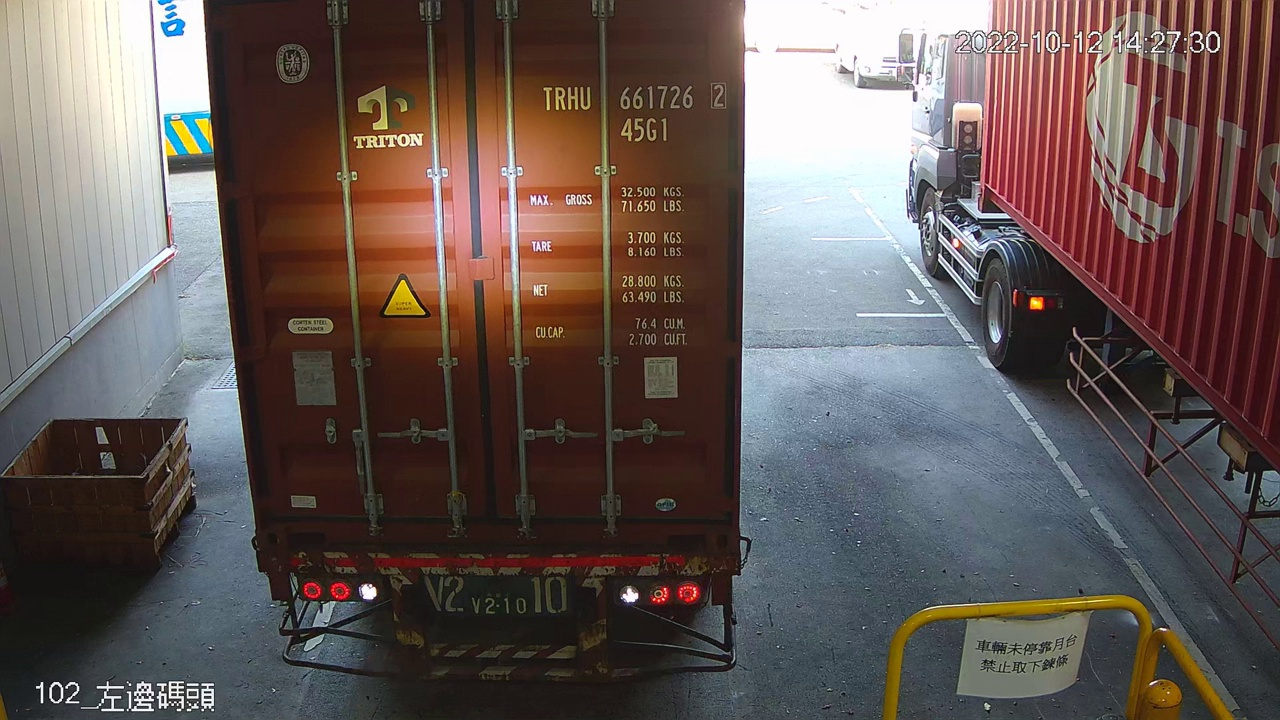container: (535, 77, 732, 149)
